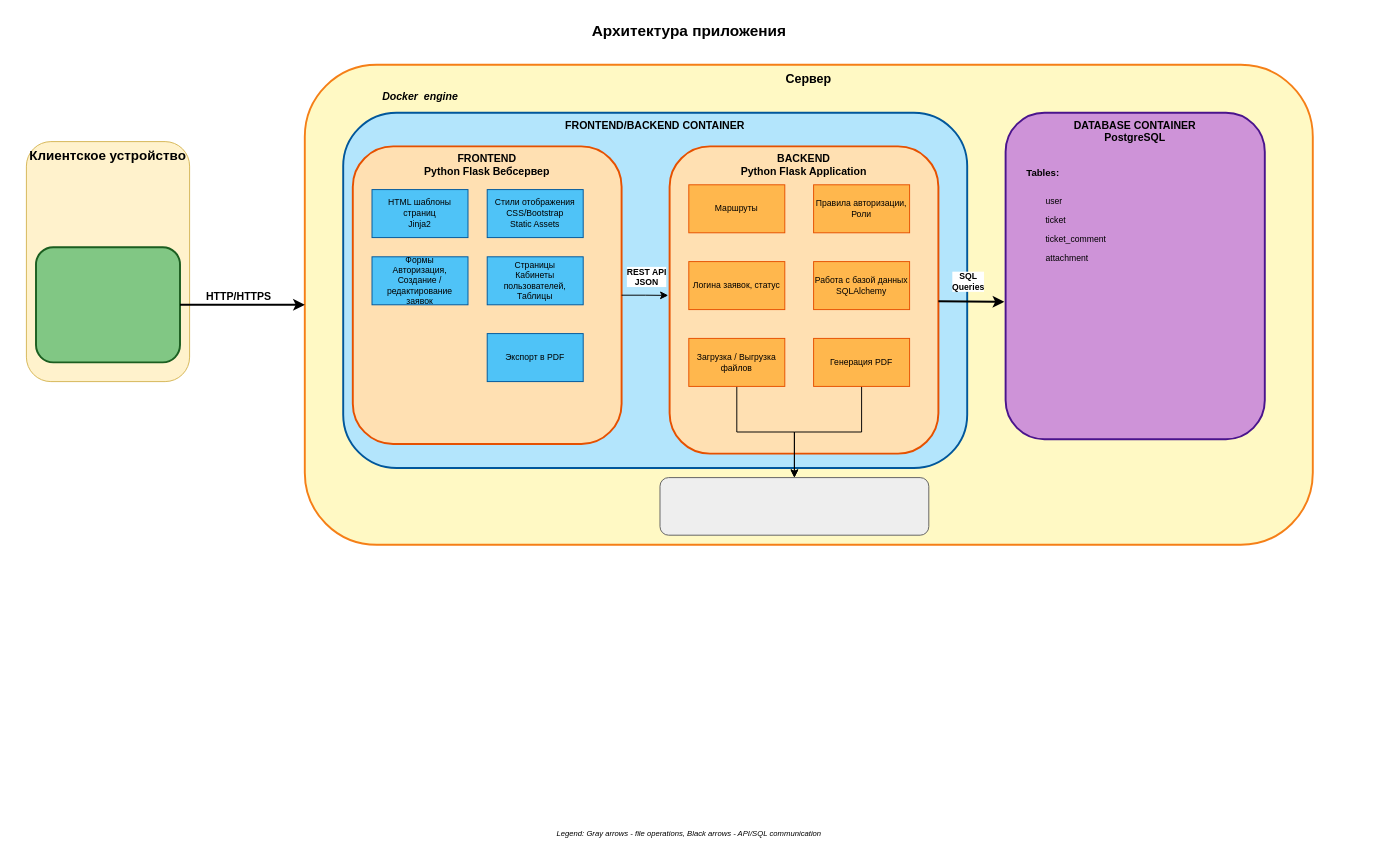
This 1377x858 diagram has some shape labels left out. The shapes that lost their labels are listed below. From the top down, each one's centre as x and y in pixels, then its label:
At point (107, 304): "Веб браузер".
At point (794, 506): "Папка для хранения файлов uploads/".
